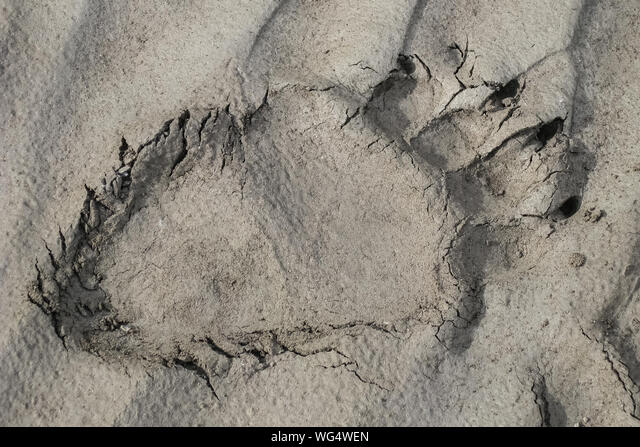bear: (27, 28, 611, 381)
